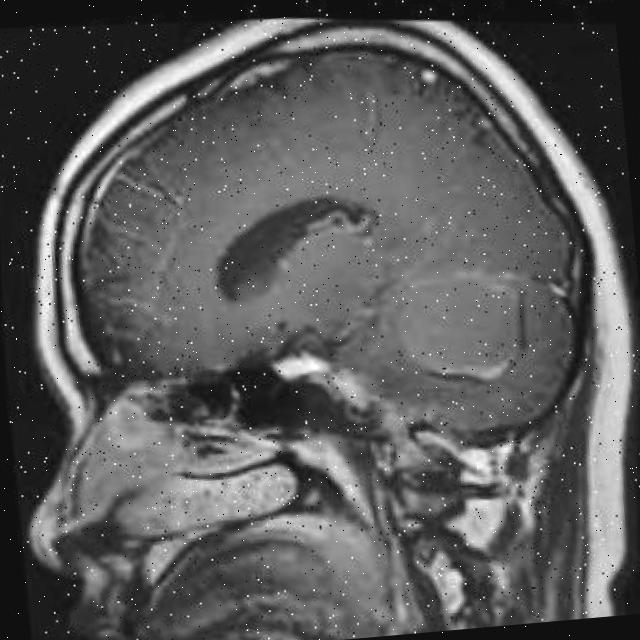CN: (354, 238, 566, 438)
